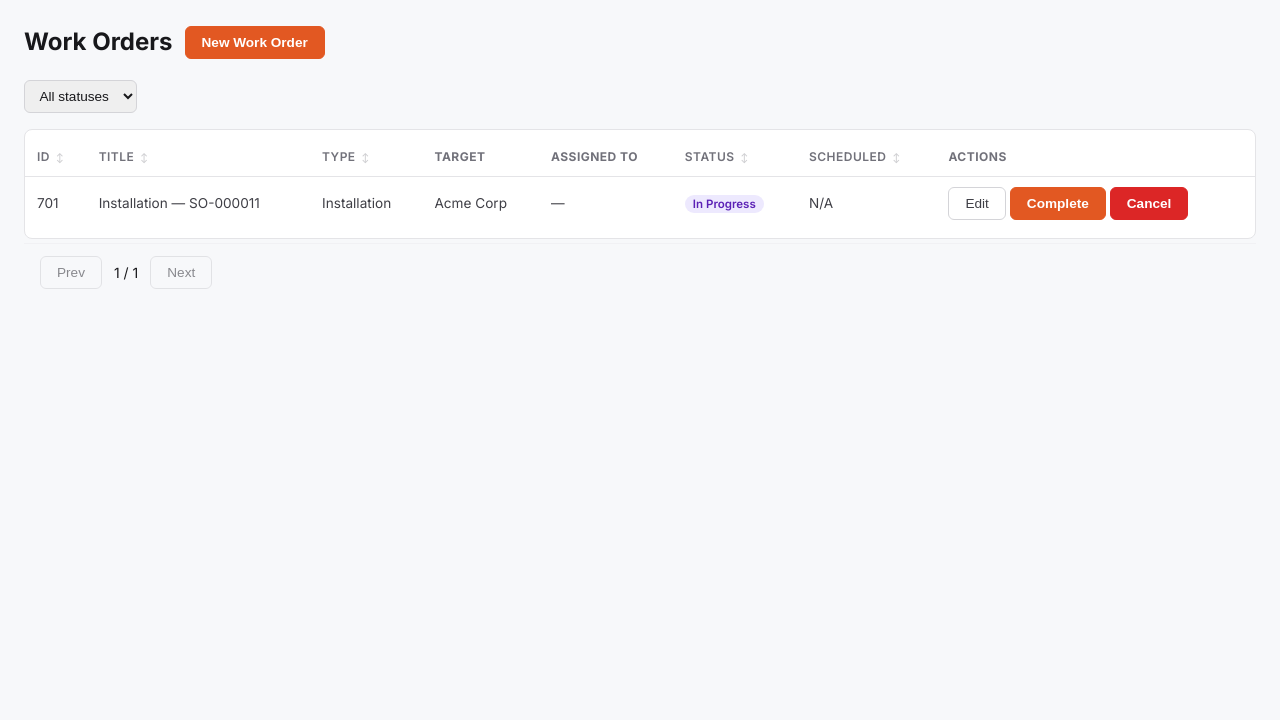
Test: WorkOrders — install acceptance on Complete › Complete opens the acceptance modal instead of patching blindly
This screenshot has width=1280, height=720.
Expected: the text "Installation — SO-000011" is shown, [87, 176, 310, 230]
Click the button "Complete" at [1058, 204], box [1010, 187, 1106, 220]
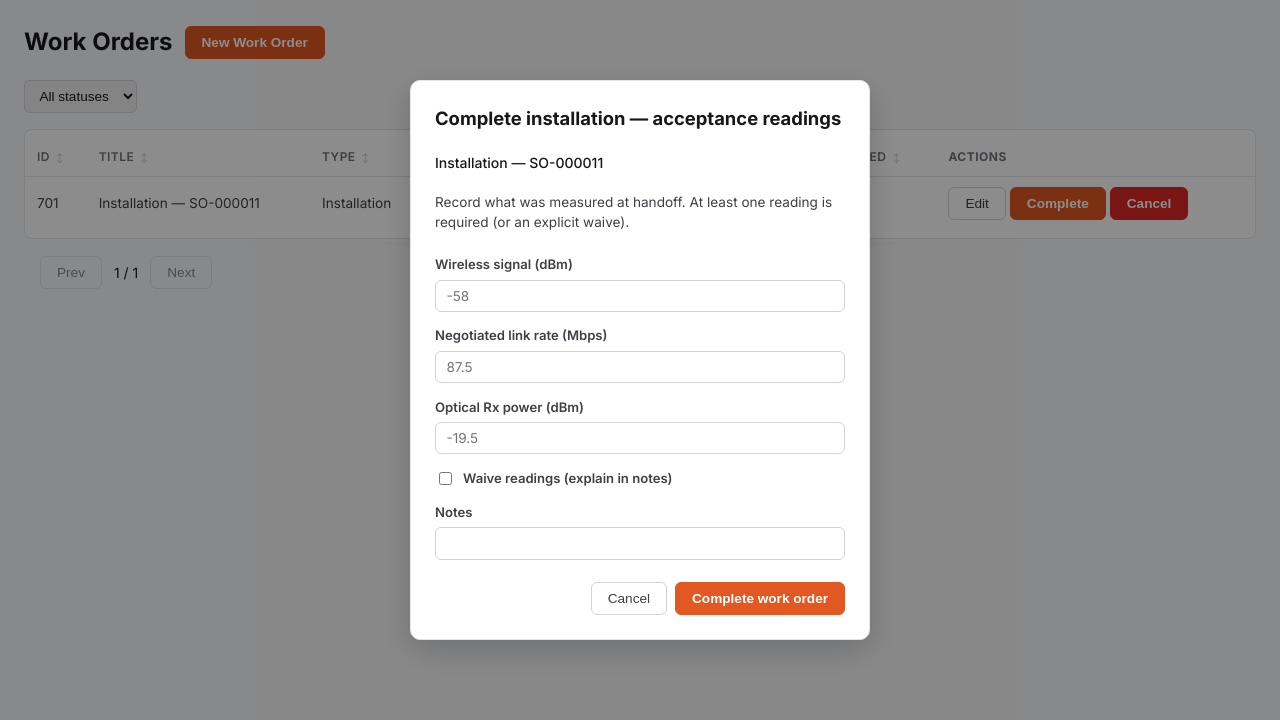
Now the heading "Complete installation — acceptance readings" is shown, box [435, 105, 841, 132]
